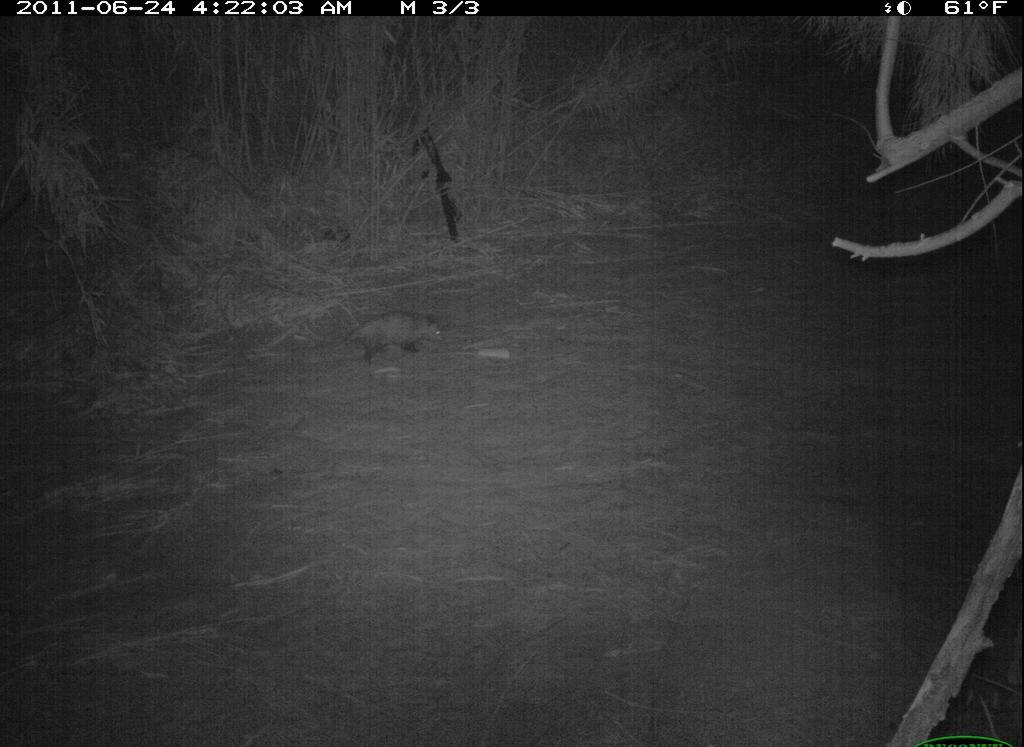opossum: (323, 296, 456, 374)
